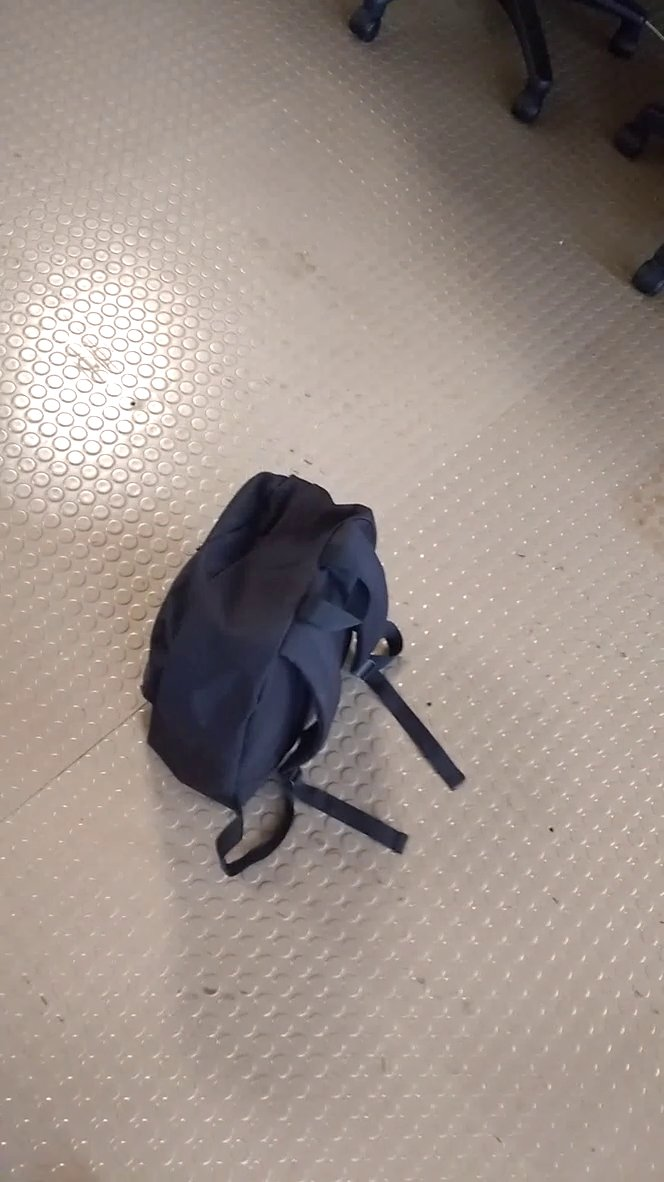bag: (130, 464, 484, 887)
